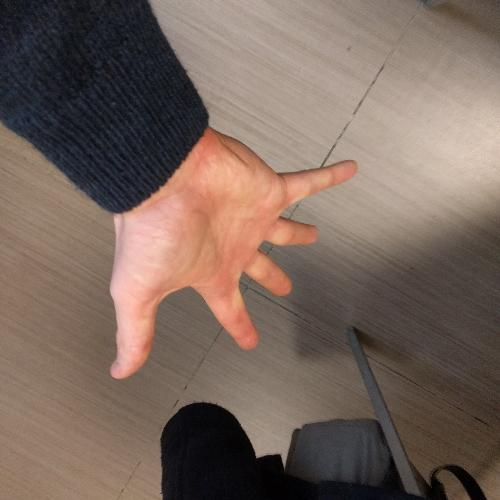paper: (102, 116, 362, 380)
